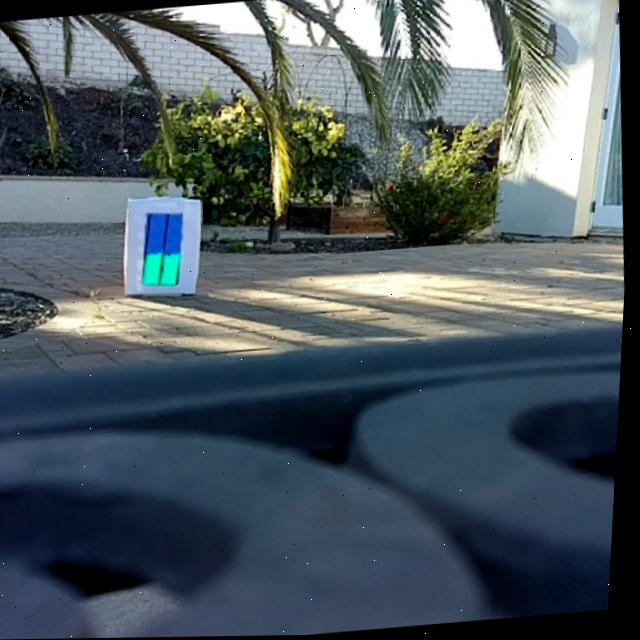led: (140, 208, 191, 291)
